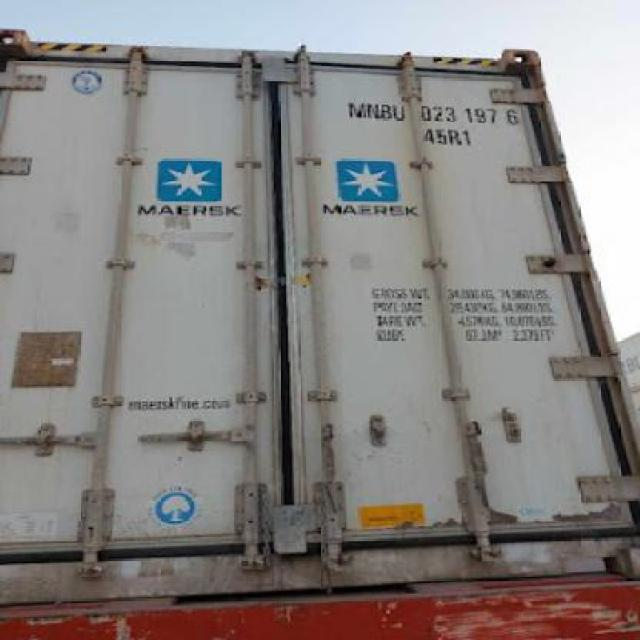ISO: (424, 125, 474, 147)
container_number: (349, 102, 522, 126)
